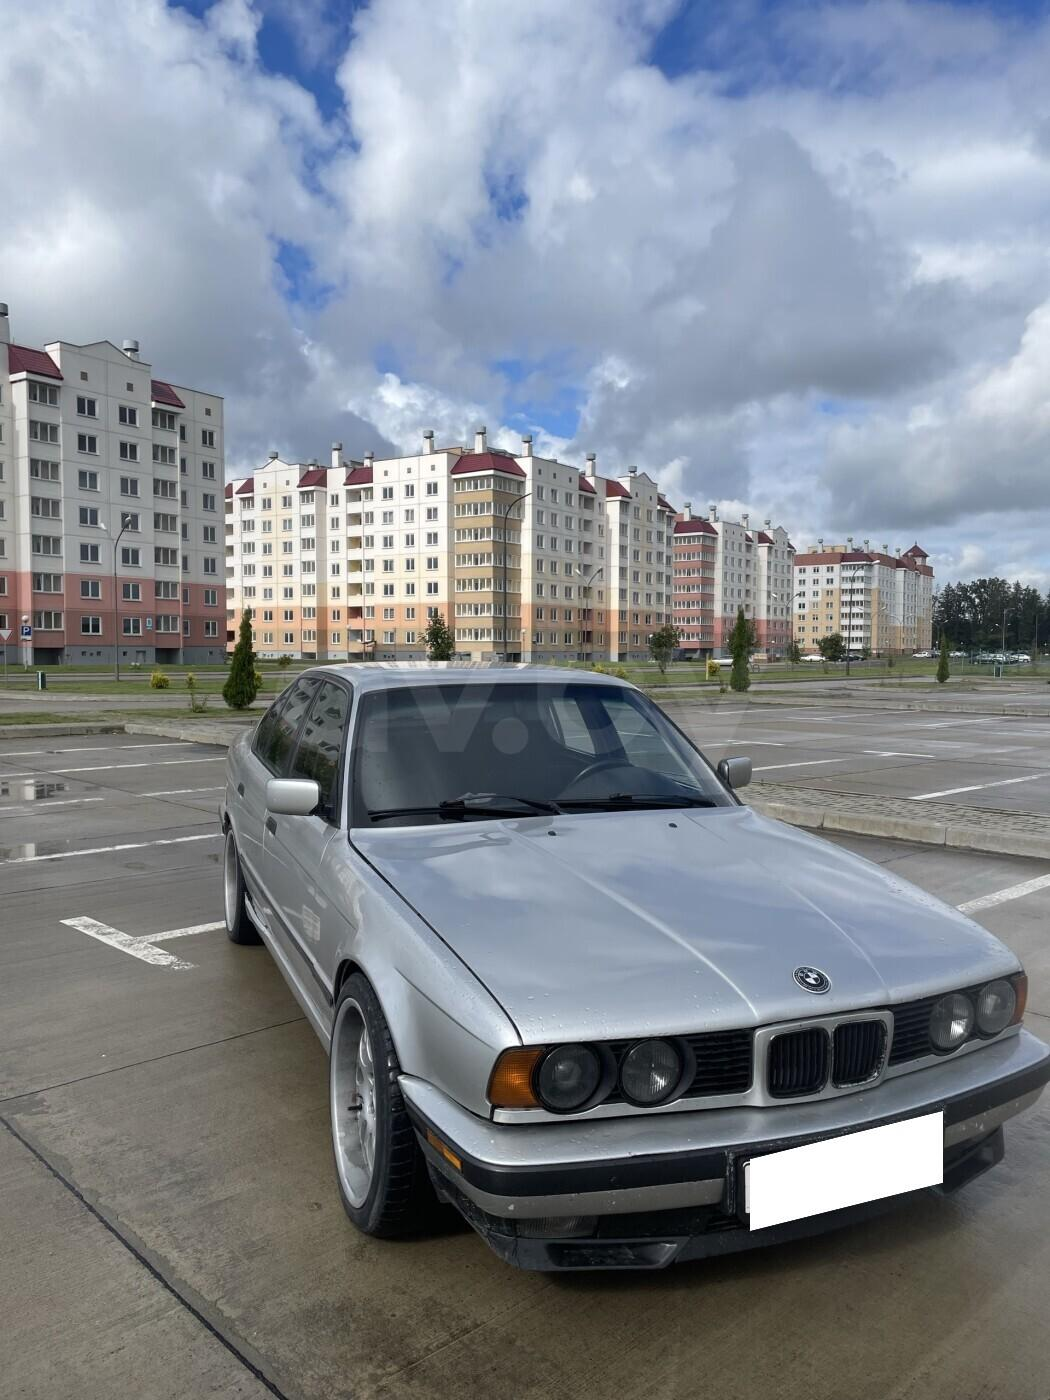BMW_E34_1992_3600: (210, 651, 1049, 1284)
